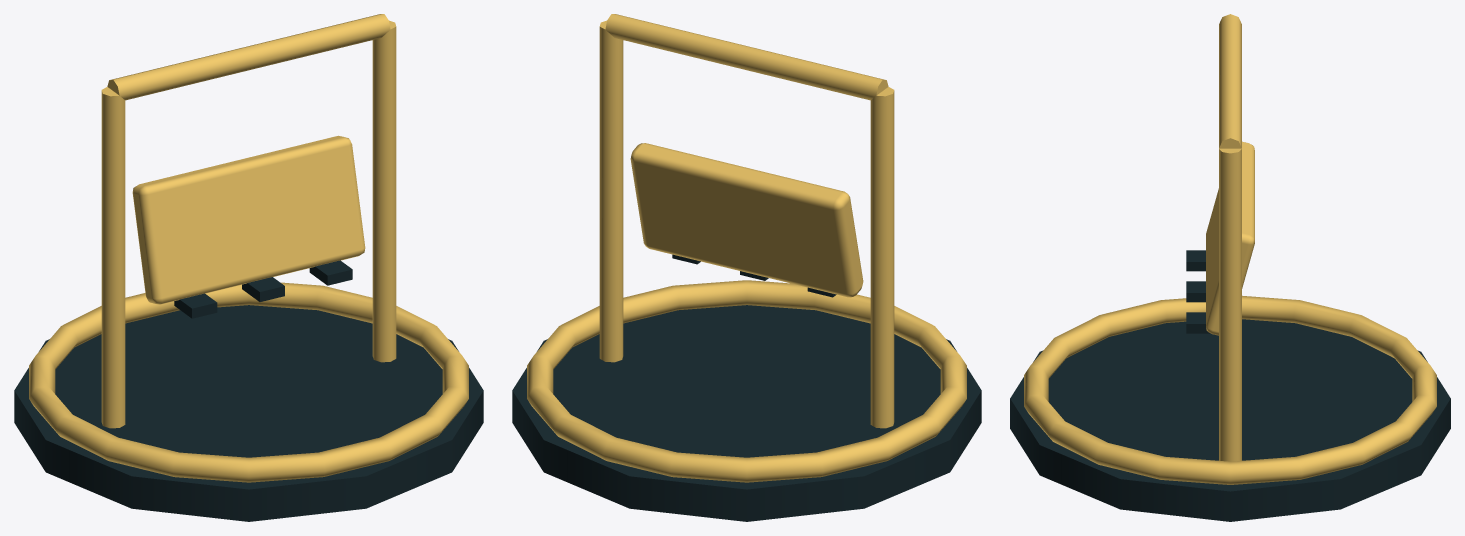
The model's file is pickup-front.glb.
3 renders of one model, left to right at view 1: azimuth 30°, elevation 25°; view 2: azimuth 150°, elevation 25°; view 3: azimuth 270°, elevation 25°, orthographic. The views are drawn at different scales.
Parts seen in each view (by area): view 1: pickup-front; view 2: pickup-front; view 3: pickup-front.
Part boxes in pixels (bbox=[...]): pickup-front: bbox=[14, 14, 483, 521]; pickup-front: bbox=[512, 14, 981, 521]; pickup-front: bbox=[1010, 14, 1450, 521].
Size of the model in its own units: 2.1 by 1.86 by 2.1.
